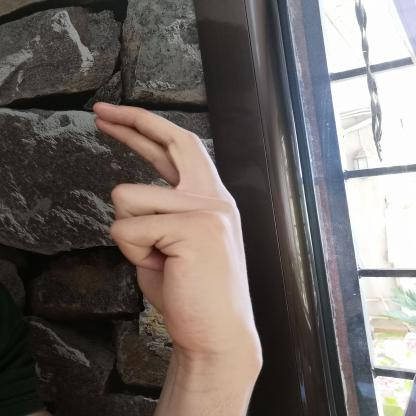ZAY: (76, 94, 272, 363)
